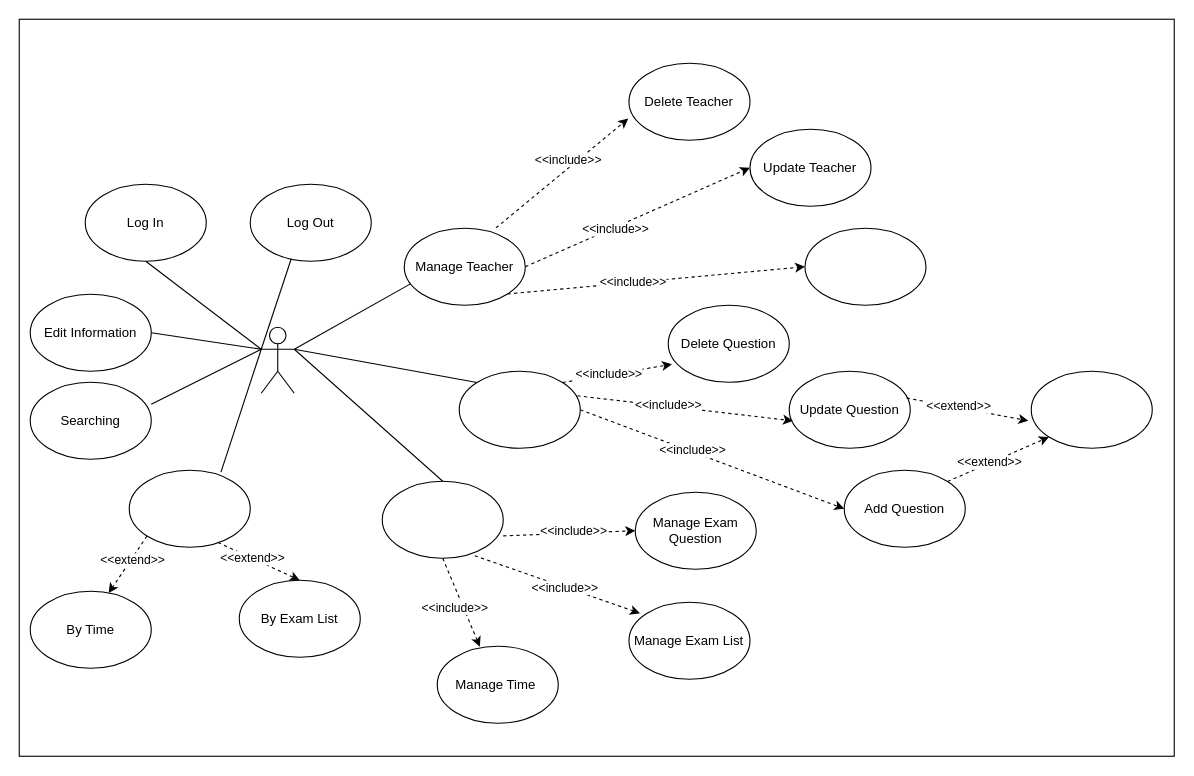
This 1194x776 diagram has some shape labels left out. The shapes that lost their labels are listed below. From the top down, each one's centre as x and y in pixels, then its label:
At (865,266): "Add Teacher".
At (277,359): "Head of Subject".
At (519,409): "Manage Question".
At (1091,409): "Choose Type of Question".
At (189,508): "Review Result".
At (442,519): "Manage Exam".
